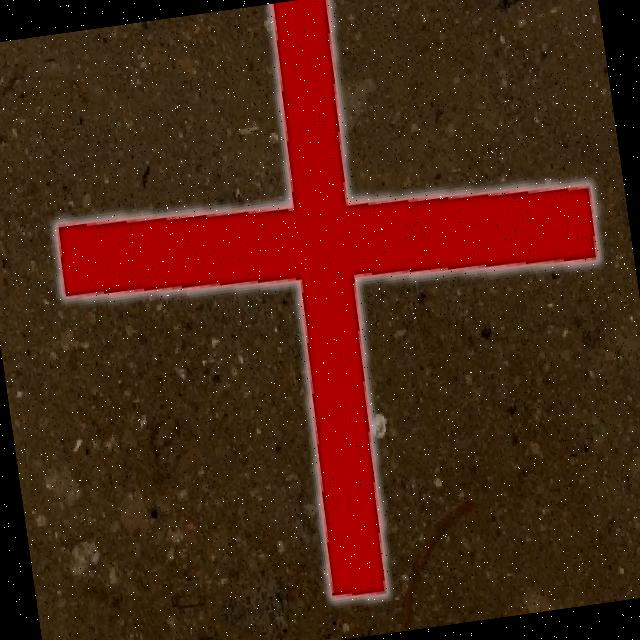x_marker: (27, 0, 640, 632)
